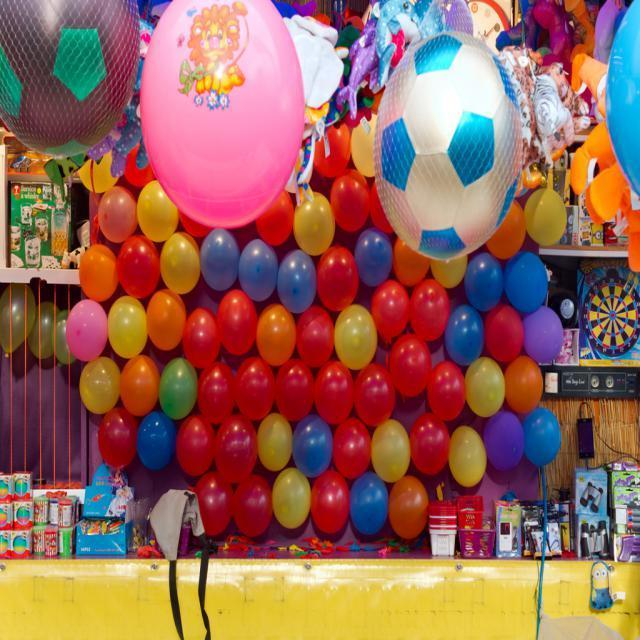football: (379, 36, 527, 252)
